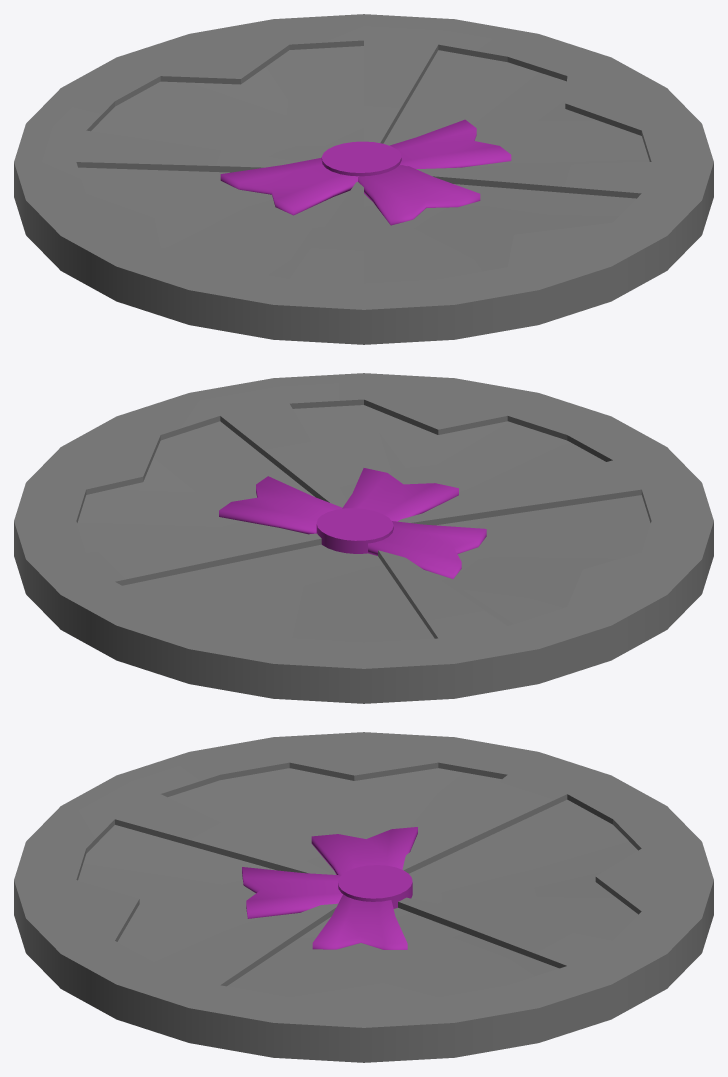
The model's file is TOMATO.fbx.
3 views of the same model, one above another, from view 1: azimuth 30°, elevation 25°; view 2: azimuth 150°, elevation 25°; view 3: azimuth 270°, elevation 25° (orthographic).
Visible parts, largest first — view 1: Cylinder001, Box005; view 2: Cylinder001, Box005; view 3: Cylinder001, Box005.
Boxes of the visible parts, x1,y1,x2,y2 form: Cylinder001: (14, 14, 713, 344); Box005: (220, 119, 511, 225); Cylinder001: (14, 373, 713, 703); Box005: (219, 468, 486, 578); Cylinder001: (14, 732, 713, 1062); Box005: (242, 827, 417, 949).
Bounding box in the file's own units: 11.3 × 0.7142 × 11.3.
